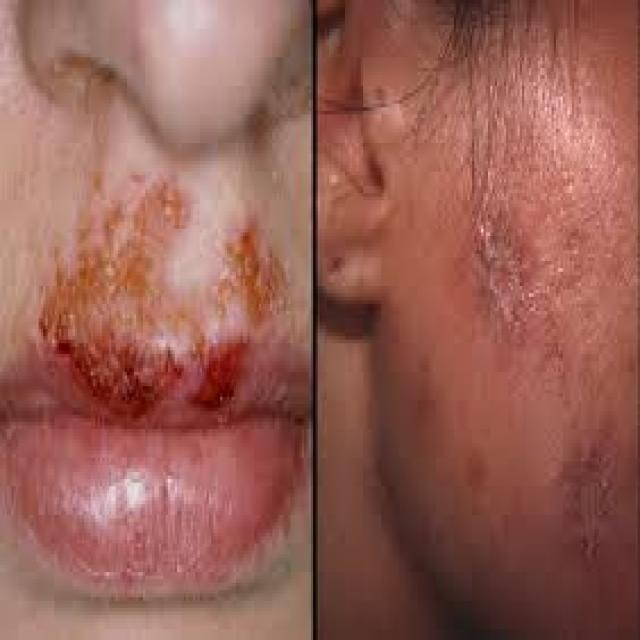burn: (0, 167, 320, 594), (456, 111, 637, 555)
